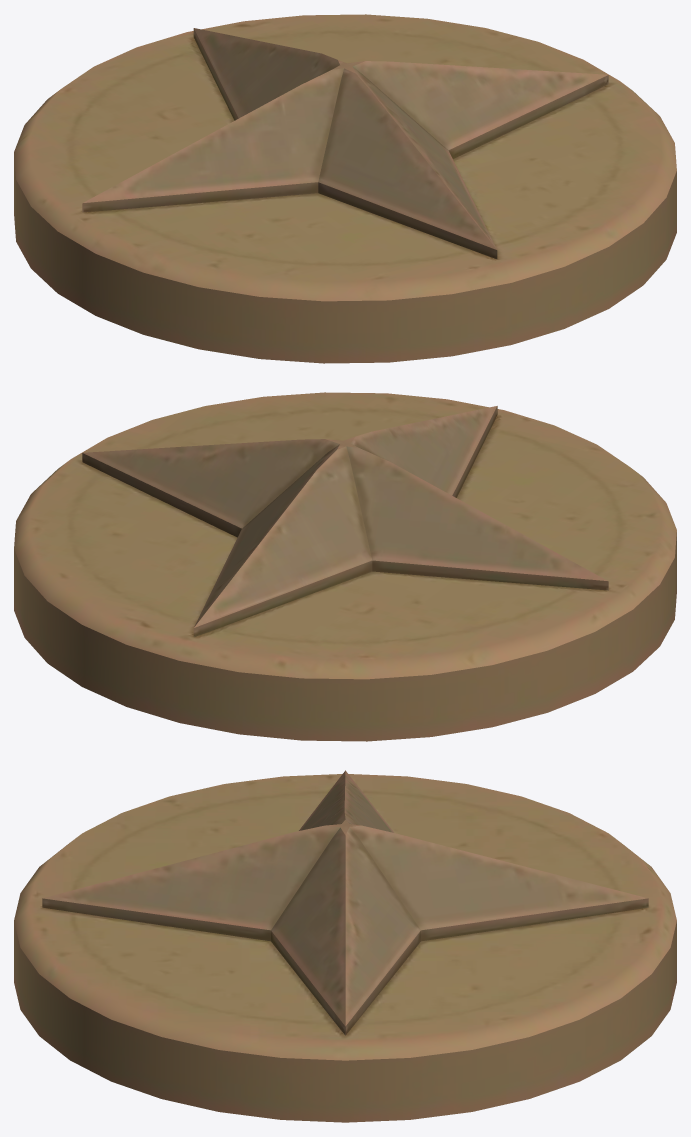
3 views of the same model, one above another, from view 1: azimuth 30°, elevation 25°; view 2: azimuth 150°, elevation 25°; view 3: azimuth 270°, elevation 25° (orthographic).
Visible parts, largest first — view 1: SM_TempleKey_LOD0; view 2: SM_TempleKey_LOD0; view 3: SM_TempleKey_LOD0.
Part boxes in pixels (left/top/right/bottom): SM_TempleKey_LOD0: left=14, top=14, right=676, bottom=363; SM_TempleKey_LOD0: left=14, top=392, right=676, bottom=741; SM_TempleKey_LOD0: left=14, top=770, right=676, bottom=1122.
Bounding box in the file's own units: 0.1781 × 0.0467 × 0.1781.
1 material, 1 textured.
